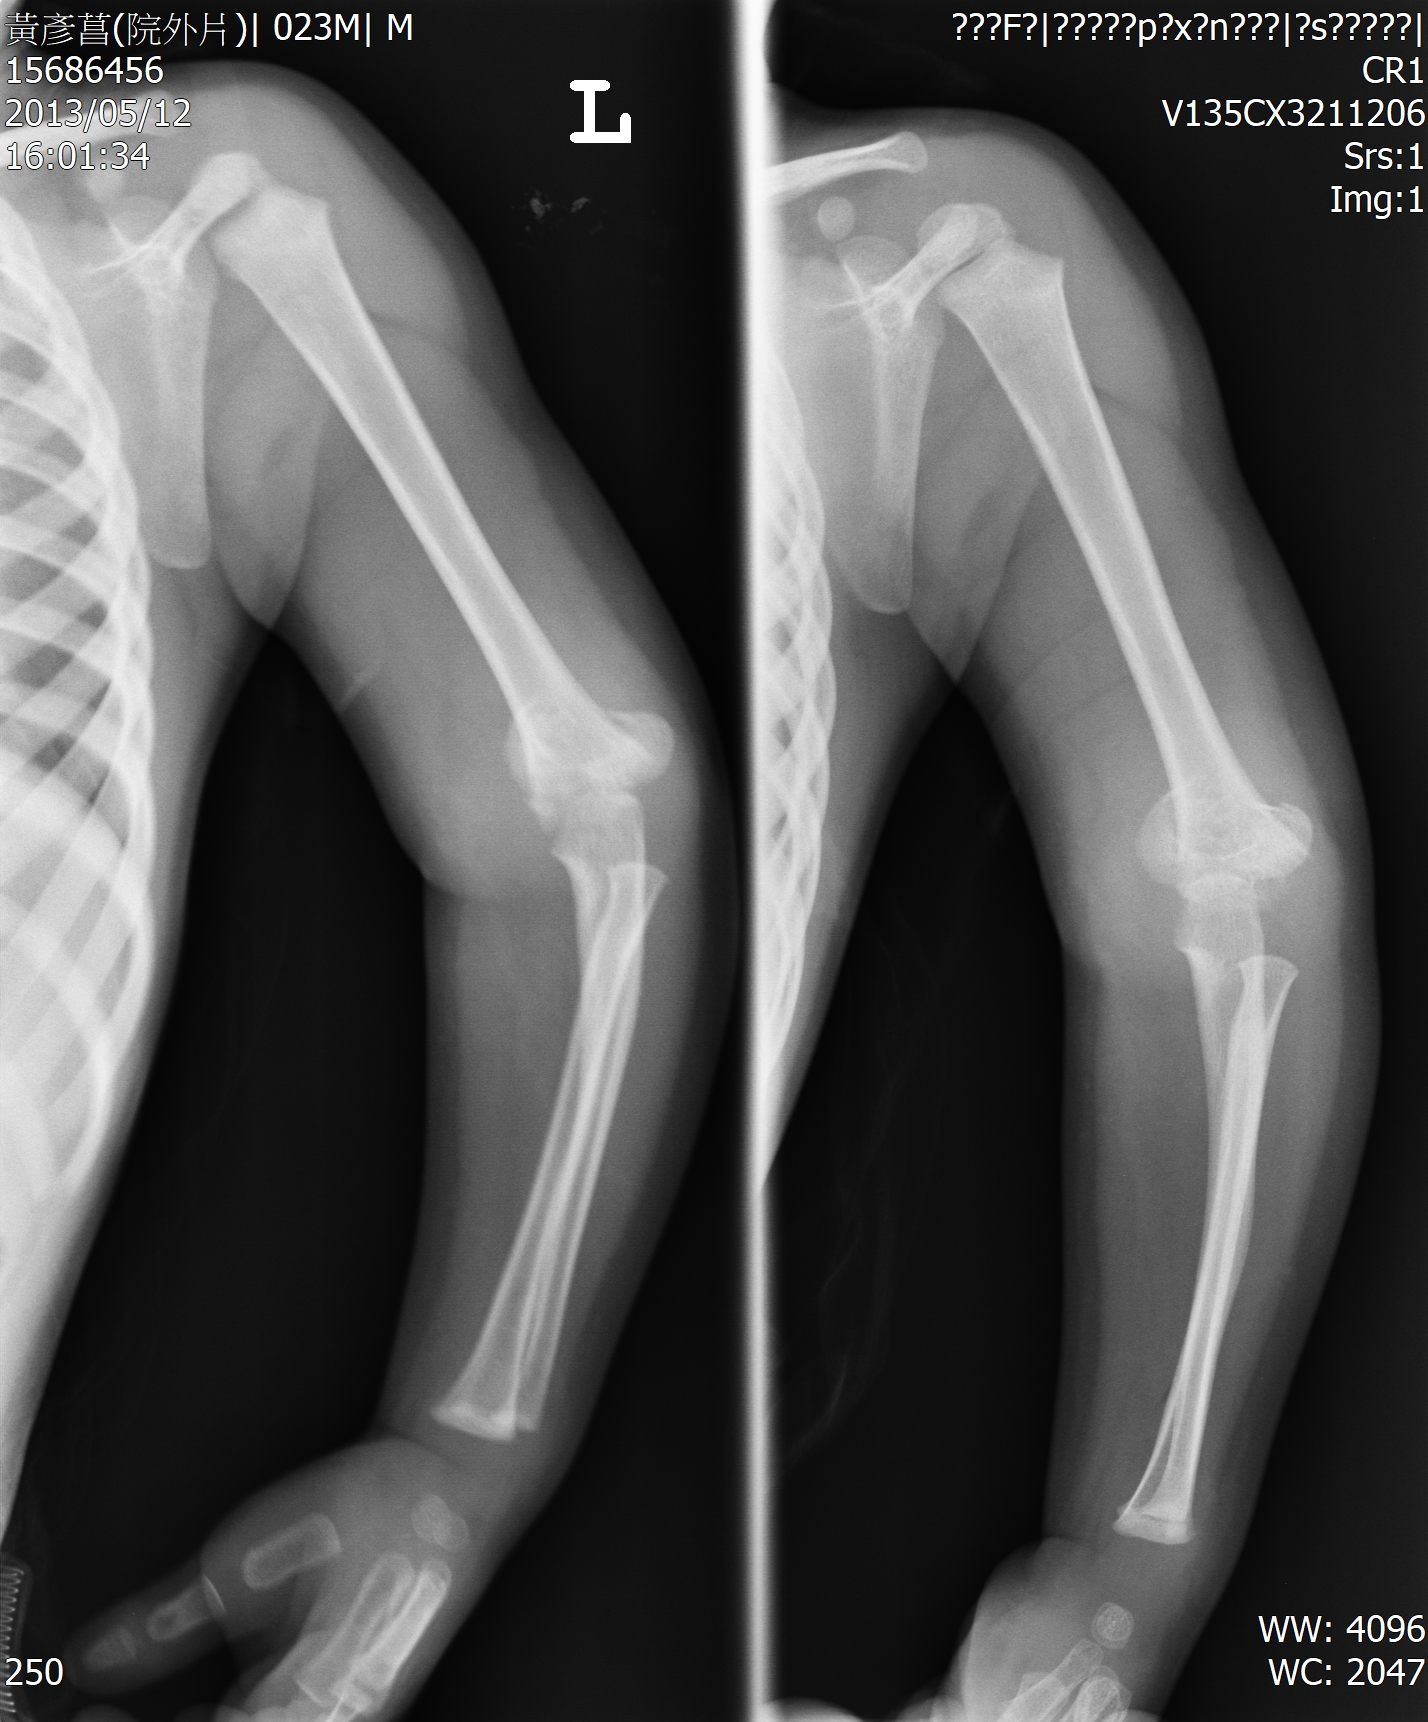SCF type 3: (987, 639, 1412, 1136), (368, 575, 735, 1031)
